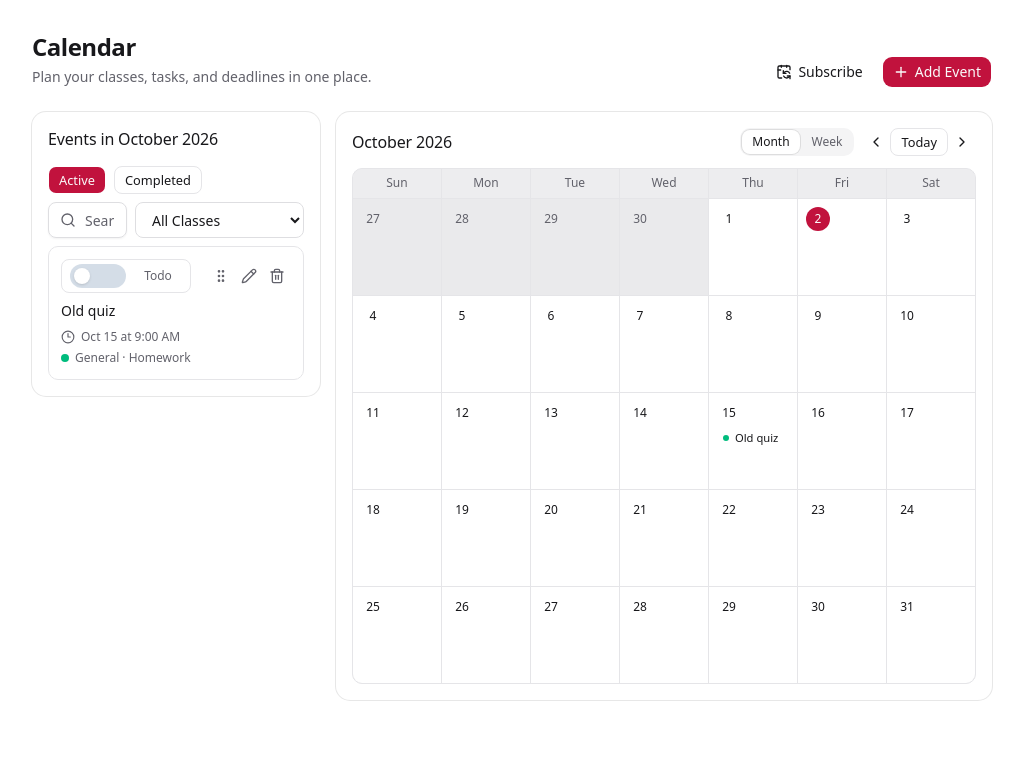
Scenario: CalendarPage › deletes an event after confirmation
What coordinates should you click on to do the following:
click the button named "Delete Old quiz"
I would click on:
 (277, 276)
Its box is [263,262,291,290].
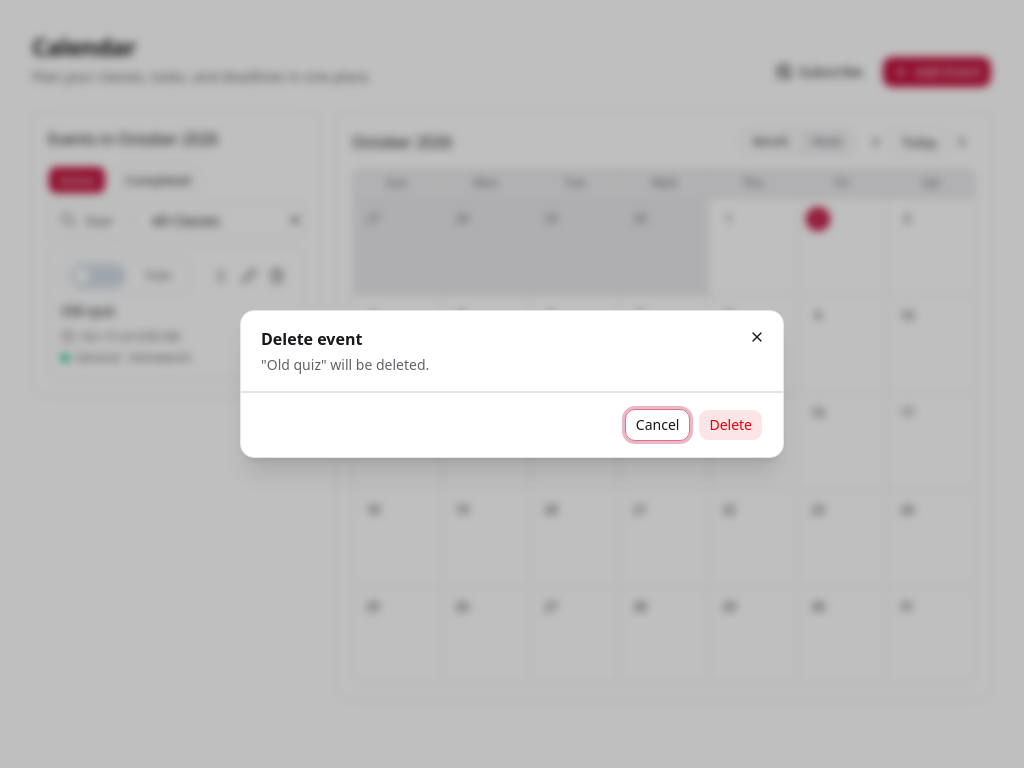
What coordinates should you click on to do the following:
click the button "Delete"
I would click on:
 (731, 425)
Its box is [698,409,763,441].
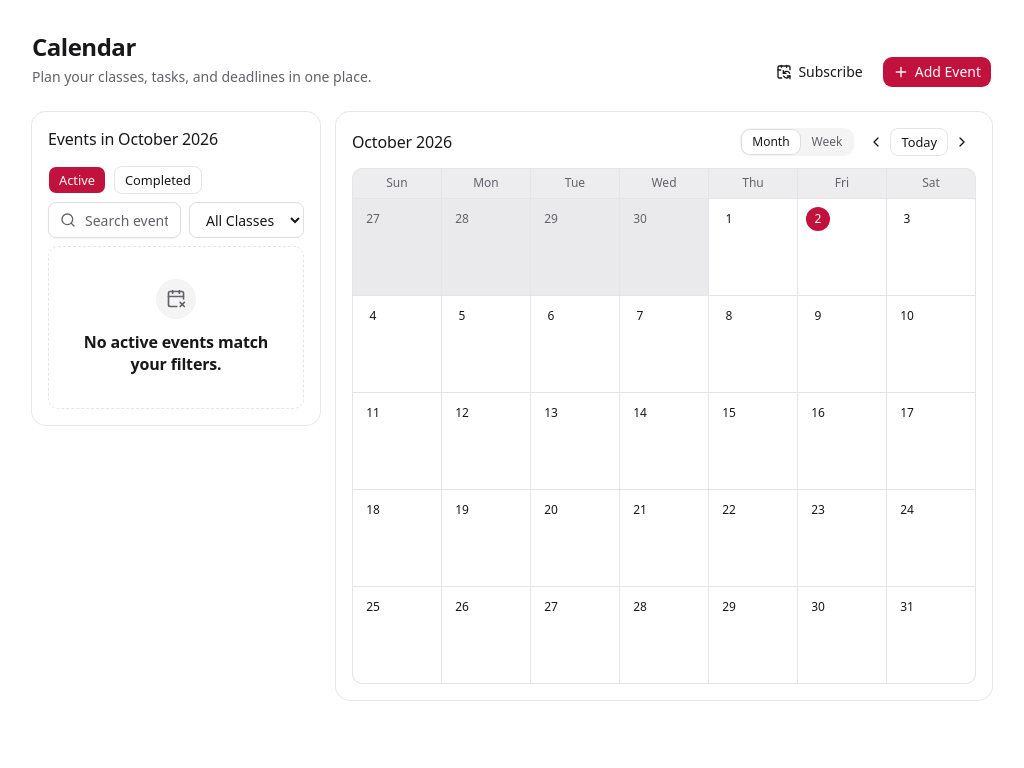
Expected: the text "Old quiz" is gone
